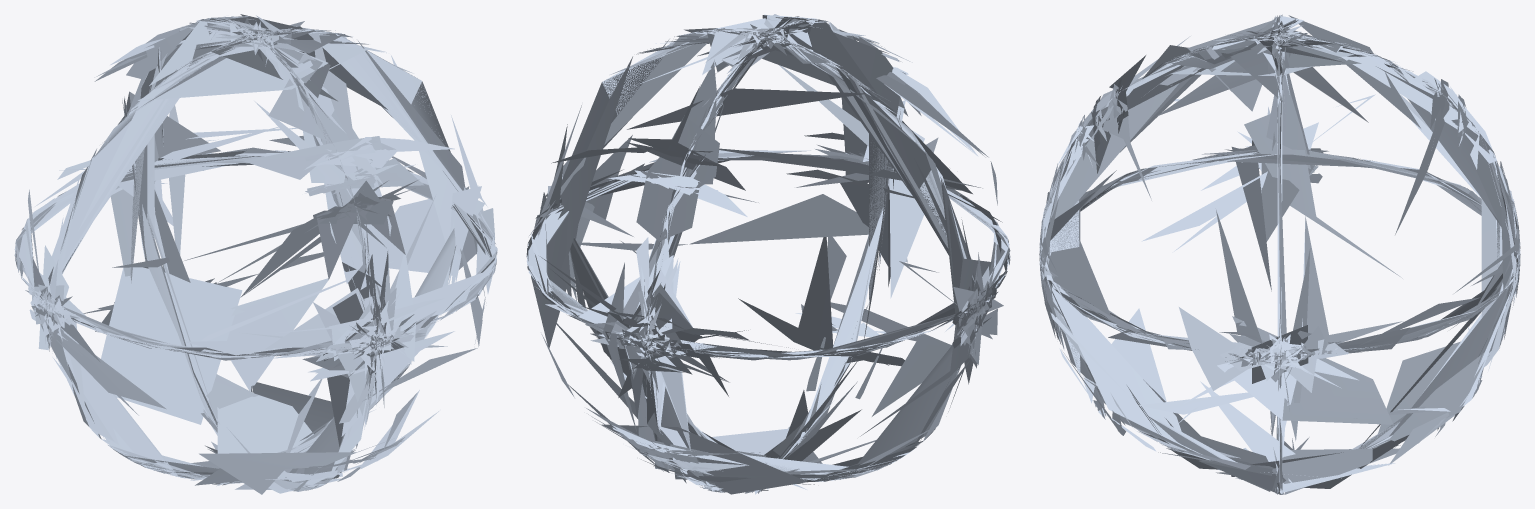
The picture shows the model from 3 angles, left to right: view 1: azimuth 30°, elevation 25°; view 2: azimuth 150°, elevation 25°; view 3: azimuth 270°, elevation 25°; orthographic projection.
Visible parts, largest first — view 1: 6C-6C-structural; view 2: 6C-6C-structural; view 3: 6C-6C-structural.
Boxes of the visible parts, x1,y1,x2,y2 form: 6C-6C-structural: (14, 14, 497, 494); 6C-6C-structural: (526, 14, 1010, 494); 6C-6C-structural: (1039, 14, 1520, 494).
Size of the model in its own units: 2 by 2 by 2.
